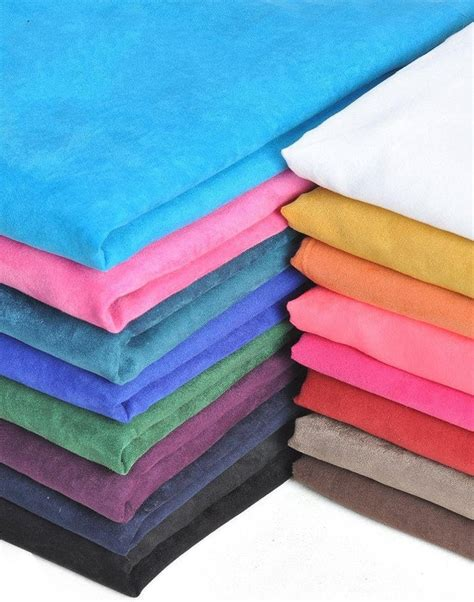gamuza: (1, 1, 474, 598)
